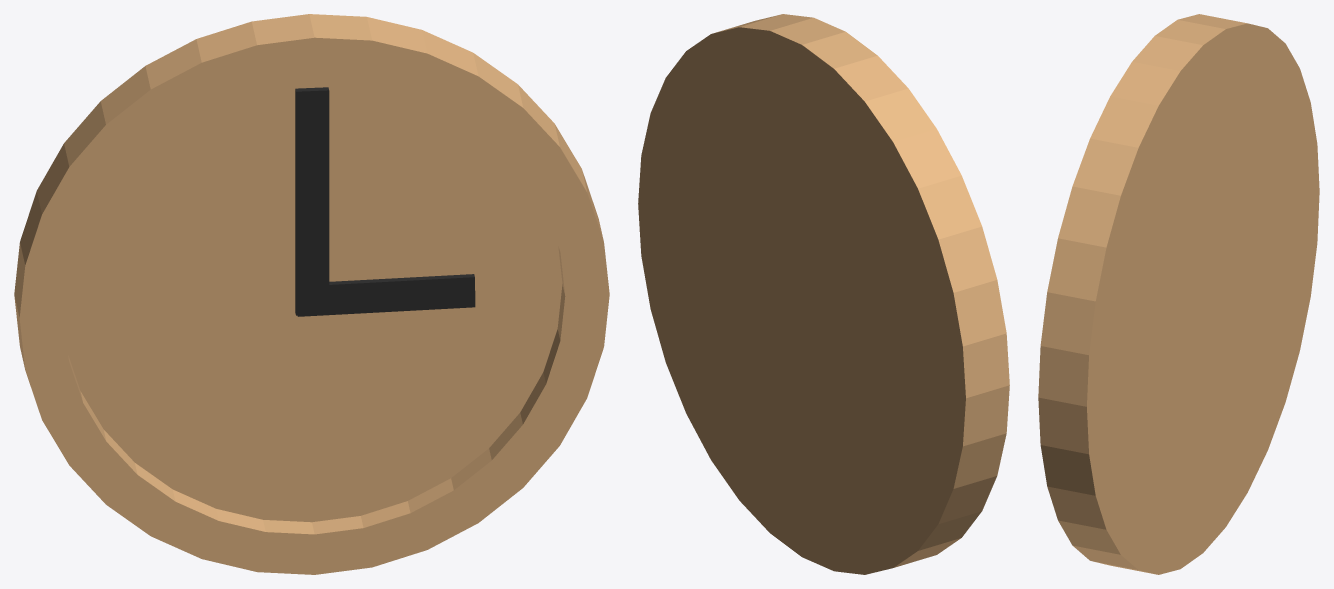
File: Clock_3.fbx
3 views of the same model, side by side, from view 1: azimuth 30°, elevation 25°; view 2: azimuth 150°, elevation 25°; view 3: azimuth 270°, elevation 25° (orthographic). The views are drawn at different scales.
Visible parts, largest first — view 1: Cube.623; view 2: Cube.623; view 3: Cube.623.
Part boxes in pixels (left/top/right/bottom): Cube.623: left=14, top=14, right=609, bottom=574; Cube.623: left=638, top=14, right=1009, bottom=574; Cube.623: left=1038, top=14, right=1319, bottom=574.
Bounding box in the file's own units: 89.7 × 94.5 × 47.44.
